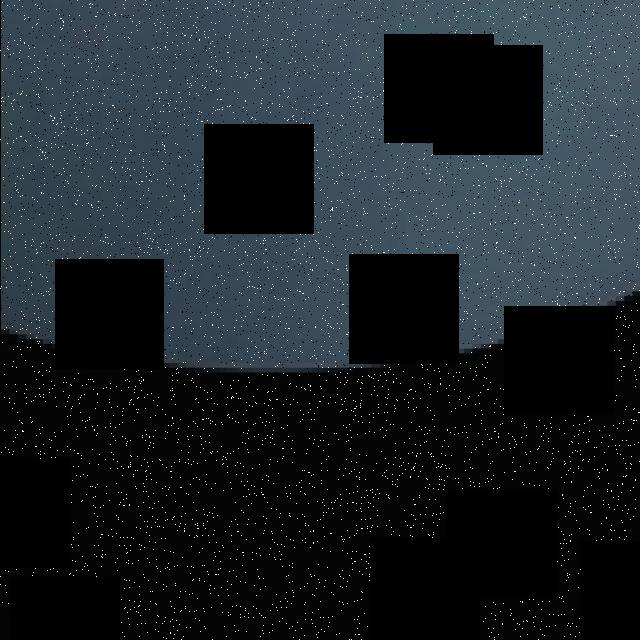Uranus: (0, 0, 640, 372)
